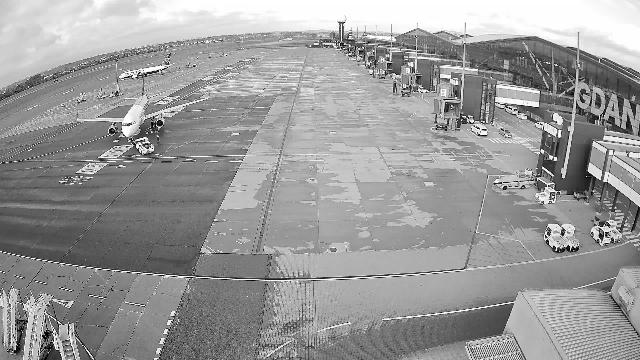Aircraft: (76, 71, 210, 142), (118, 53, 171, 79)
Airport_Tractor: (543, 224, 568, 253), (560, 224, 580, 252), (590, 226, 612, 246), (534, 186, 557, 205), (603, 220, 622, 243)
Baggage_Trolley: (536, 176, 555, 192), (574, 188, 588, 200)
Conveyor_Belt: (493, 170, 535, 190)
Ground_Crew: (156, 132, 160, 142)
Pushback_Tug: (132, 138, 154, 155)
